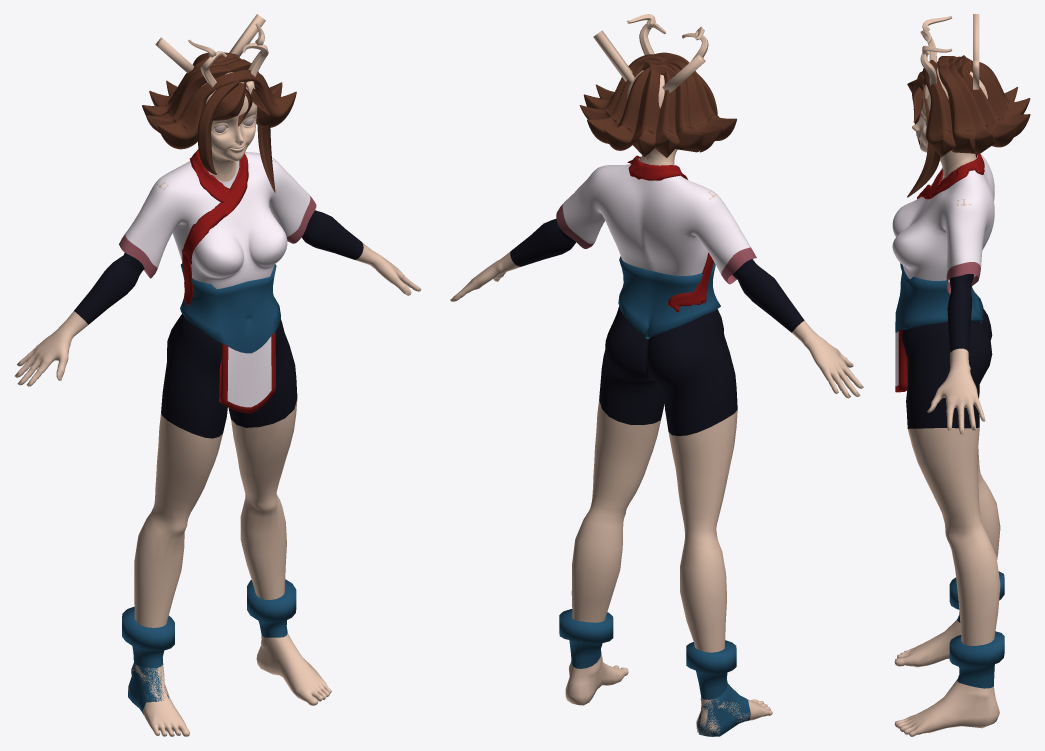
File: char-0001.fbx
3 renders of one model, left to right at view 1: azimuth 30°, elevation 25°; view 2: azimuth 150°, elevation 25°; view 3: azimuth 270°, elevation 25°, orthographic. The views are drawn at different scales.
Parts seen in each view (by area): view 1: Sphere; view 2: Sphere; view 3: Sphere.
Part boxes in pixels (box(x1,y1,x2,y2)): Sphere: box(14, 14, 421, 736); Sphere: box(450, 14, 863, 736); Sphere: box(892, 14, 1030, 736).
Bounding box in the file's own units: 216 × 346 × 65.05.
